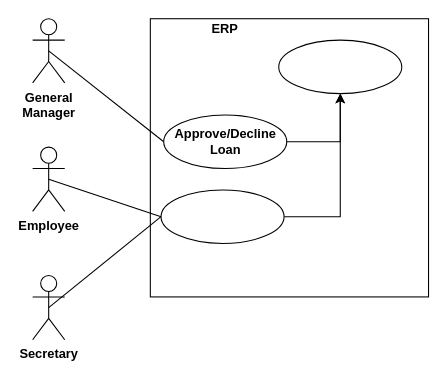
This 447x381 diagram has some shape labels left out. The centre of each missing label's shape, as x and y in pixels:
"Apply For a Loan" goes at (222,216).
"Manage Loan {abstract}" goes at (340,66).
